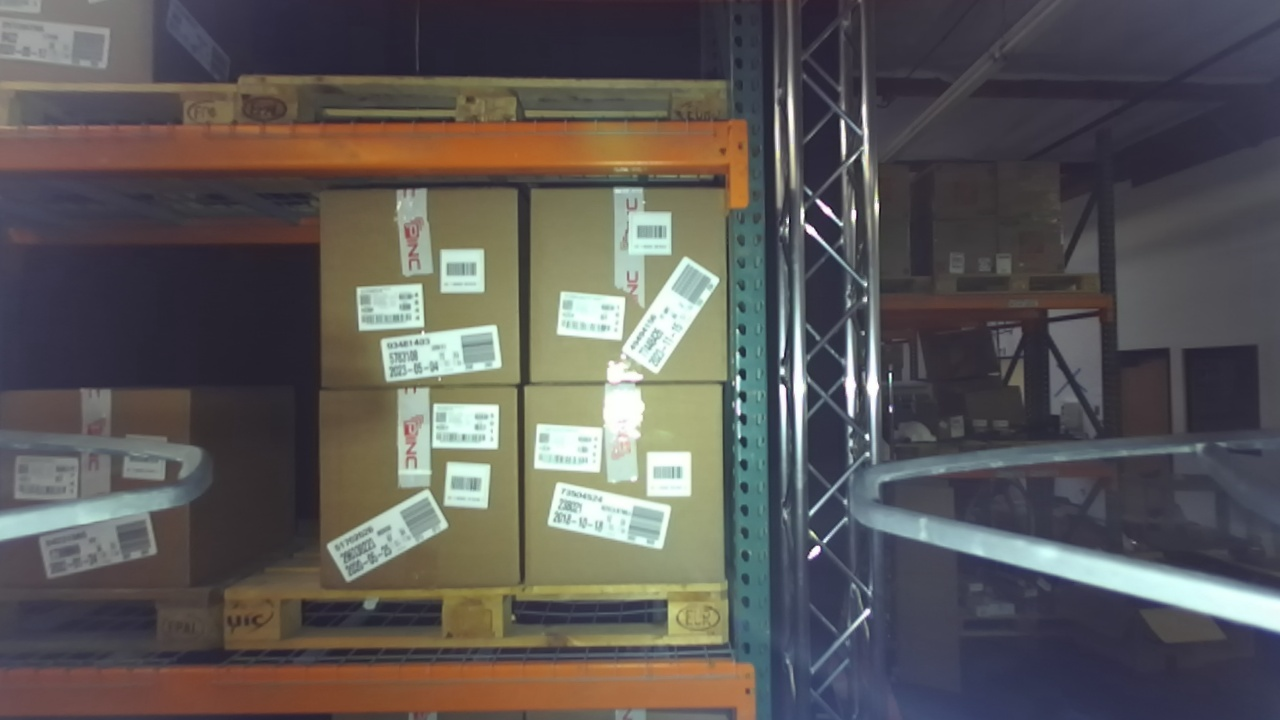box: (491, 356, 745, 606), (300, 362, 549, 613), (290, 170, 542, 407), (499, 167, 752, 401), (1, 374, 213, 603)
